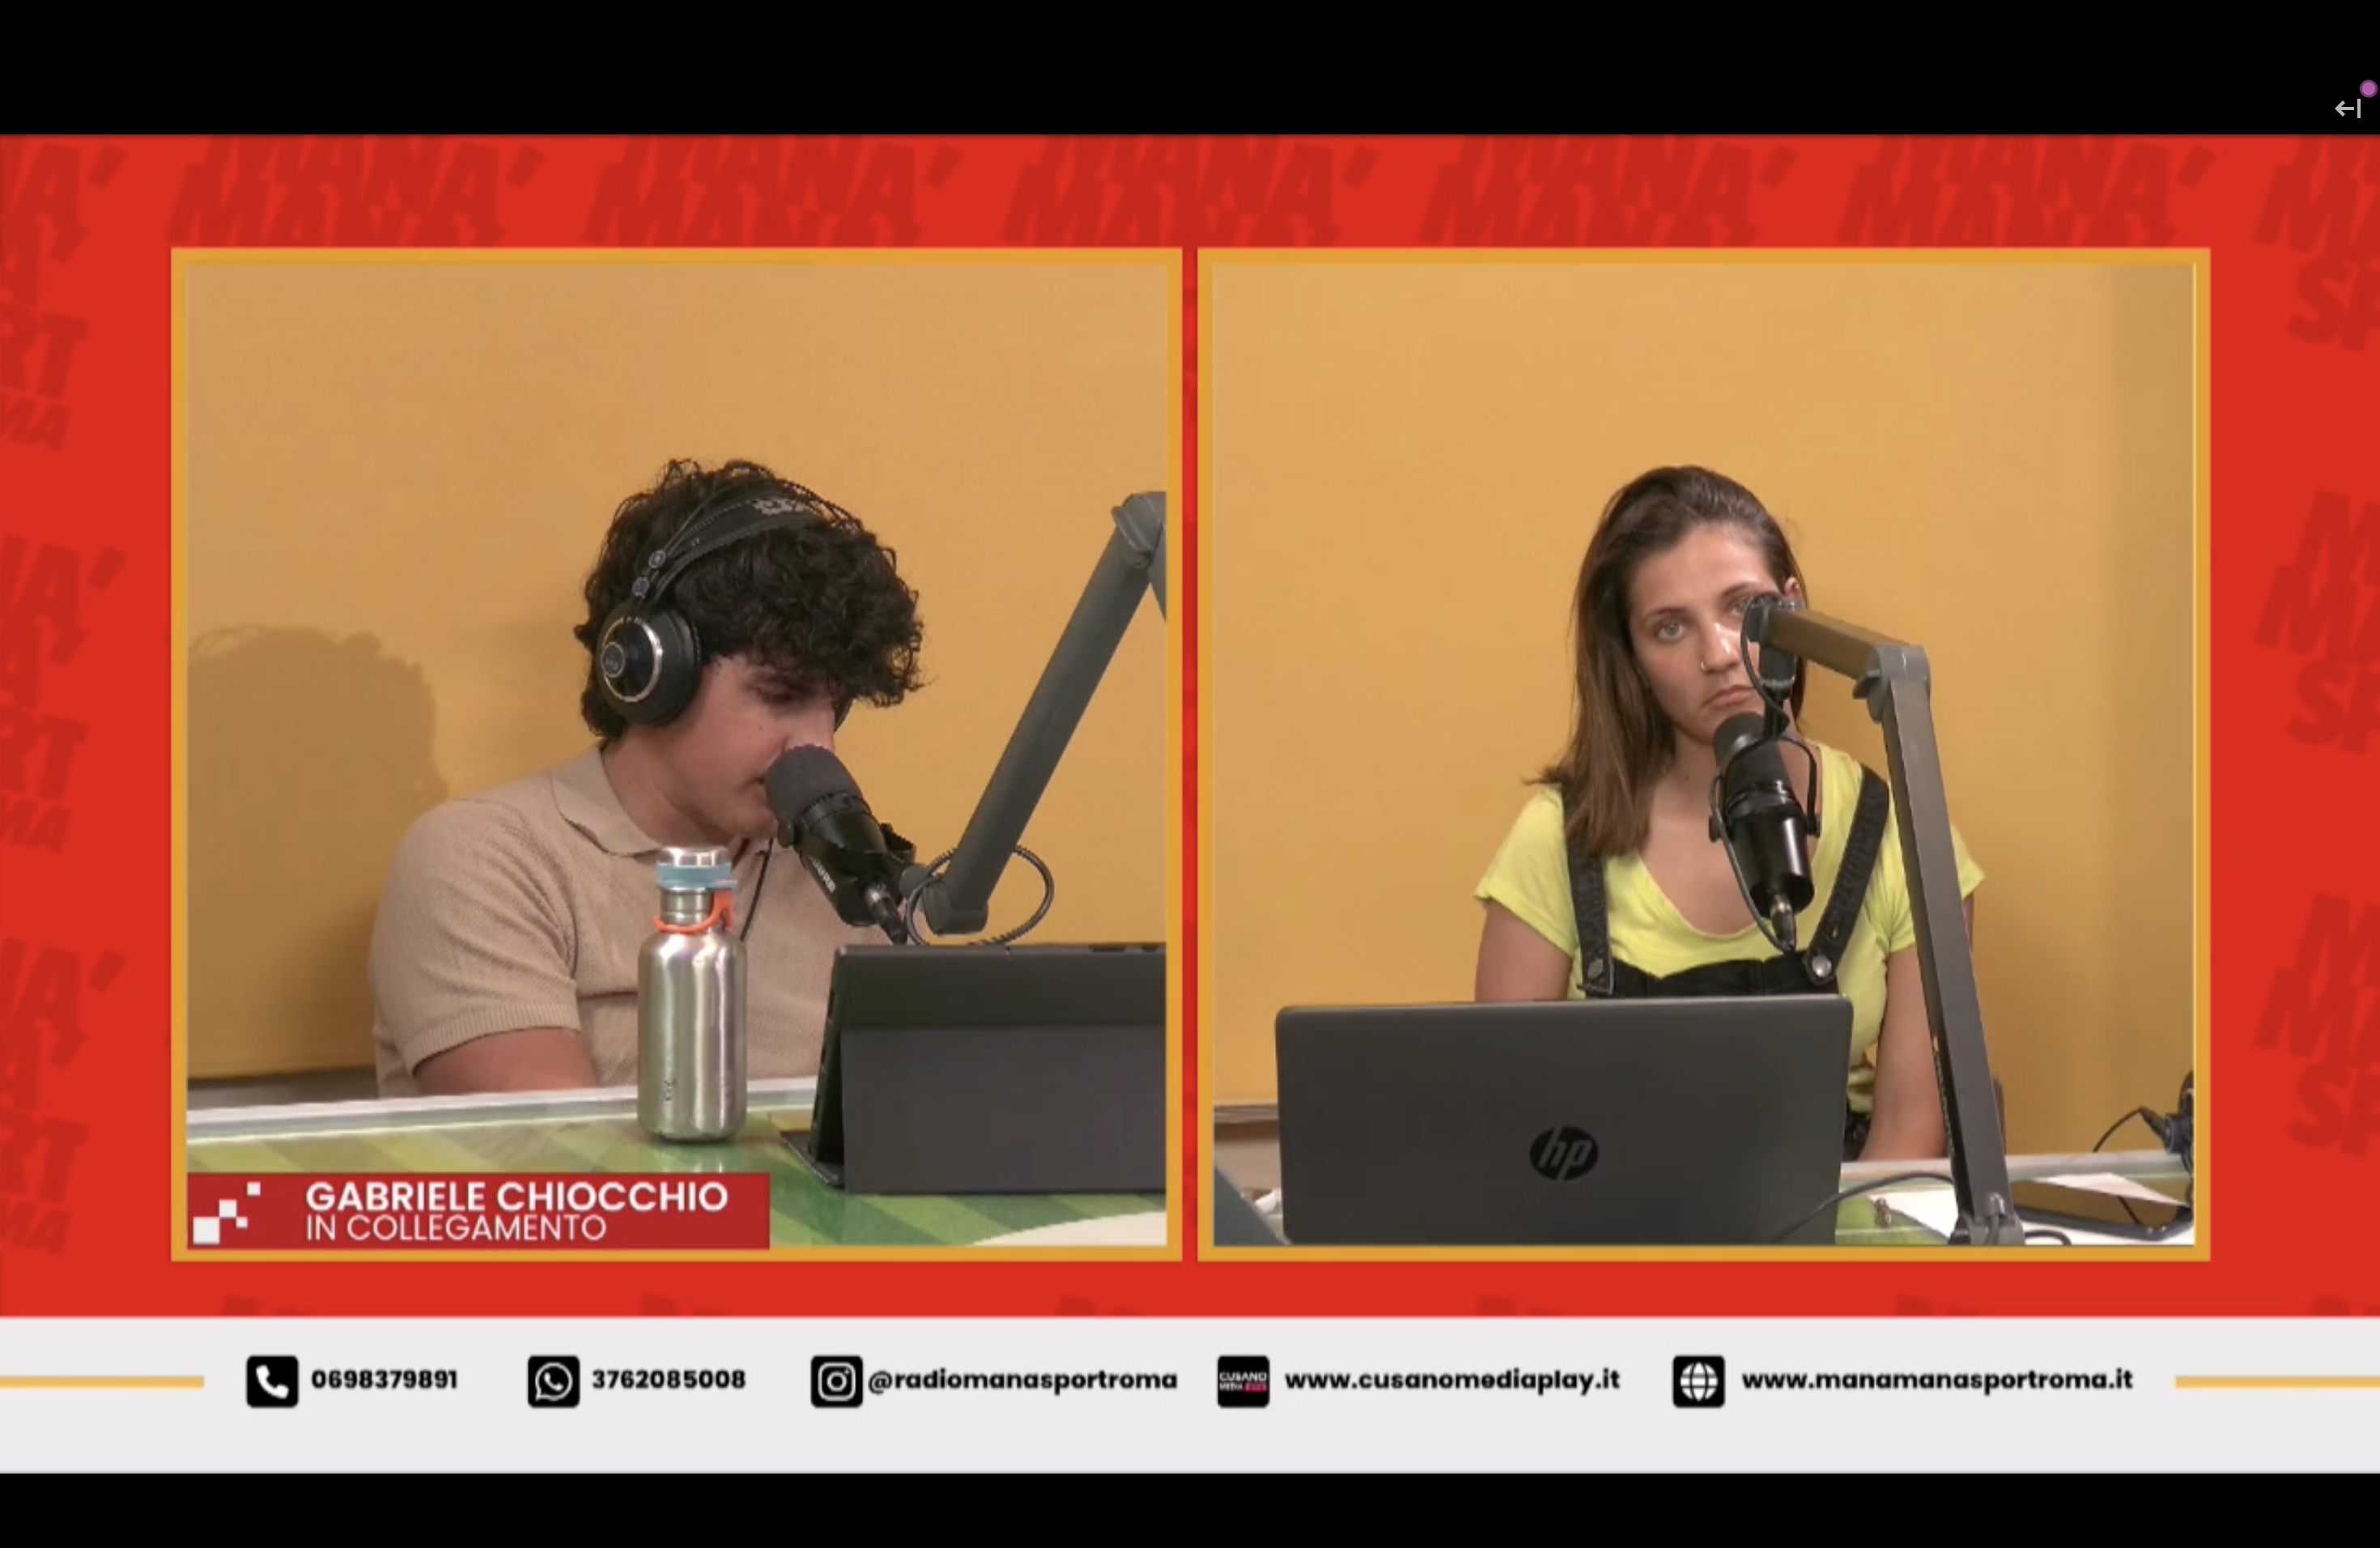person: (363, 453, 930, 1099), (1469, 461, 1986, 1166)
